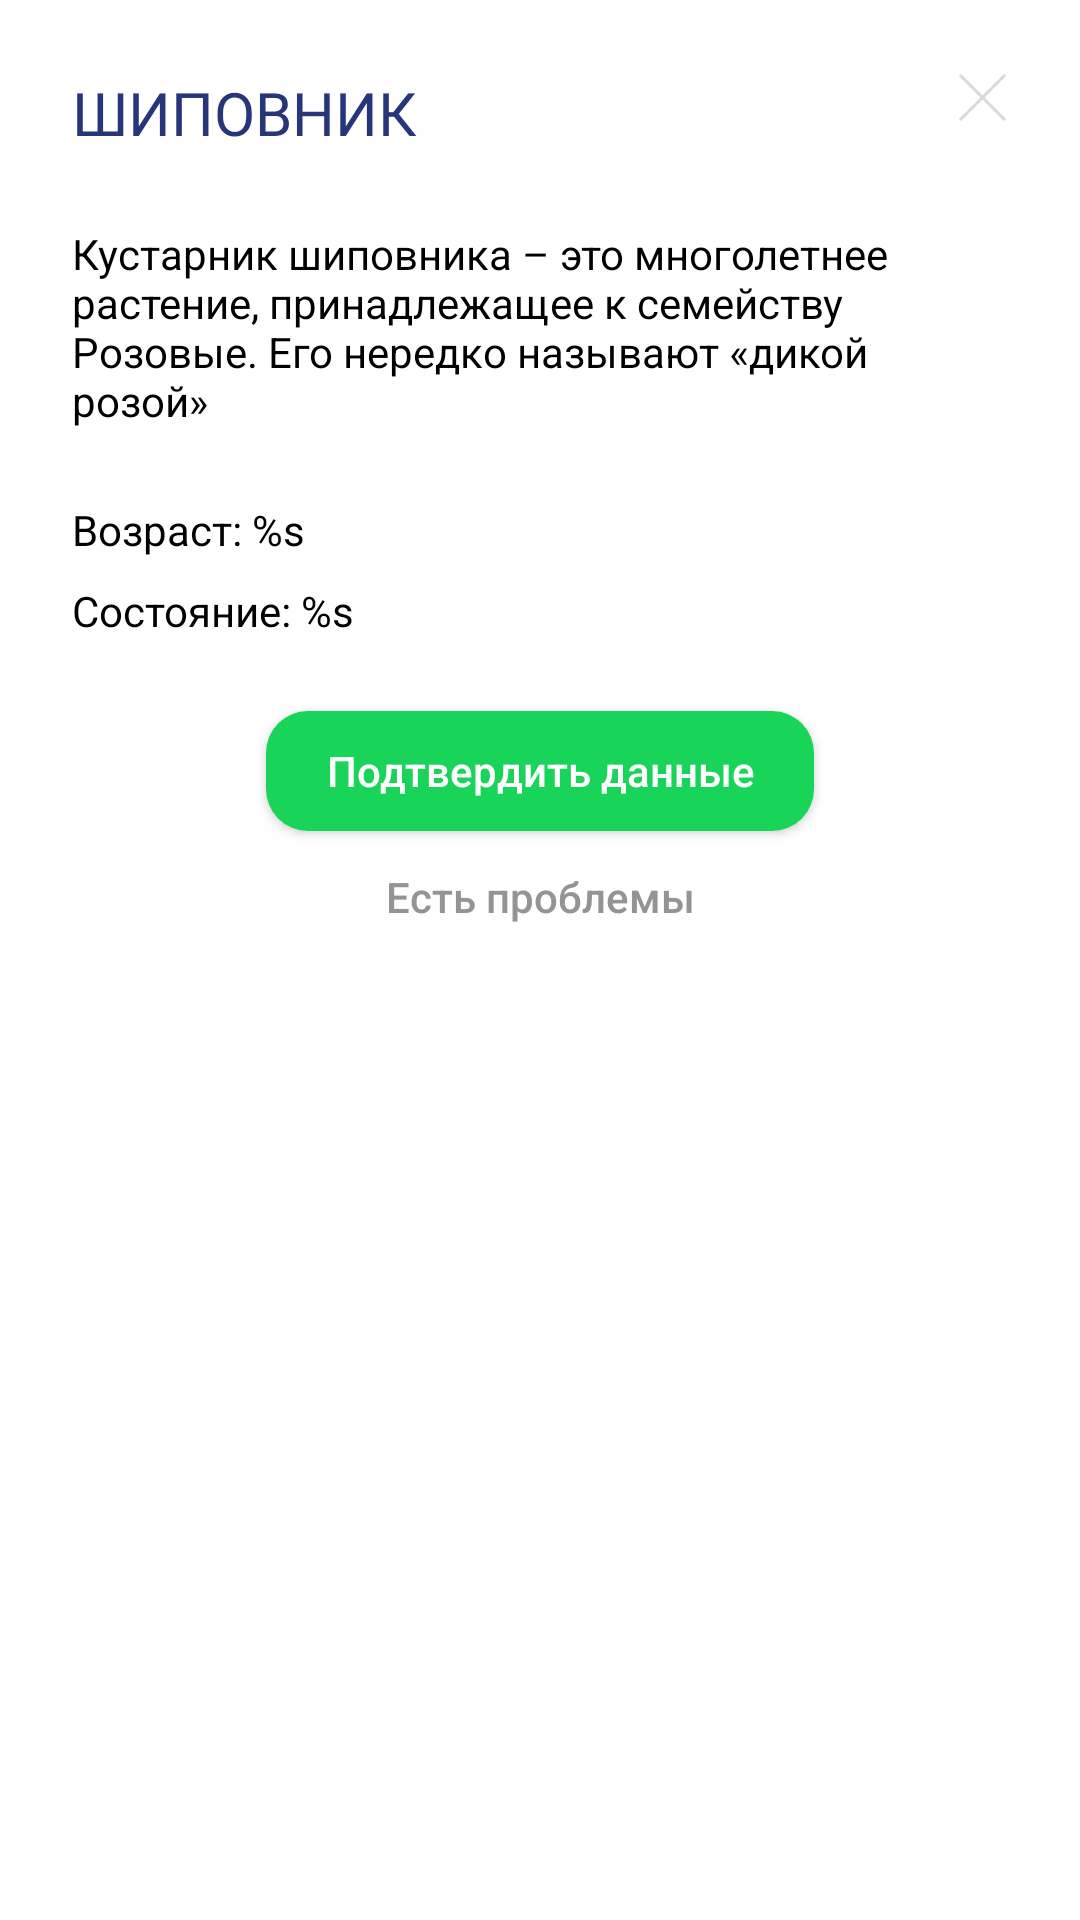

Point at icon controls on the screen. Image size 1080*1920, points as (x=x, y=y).
cross: (x=982, y=97)
